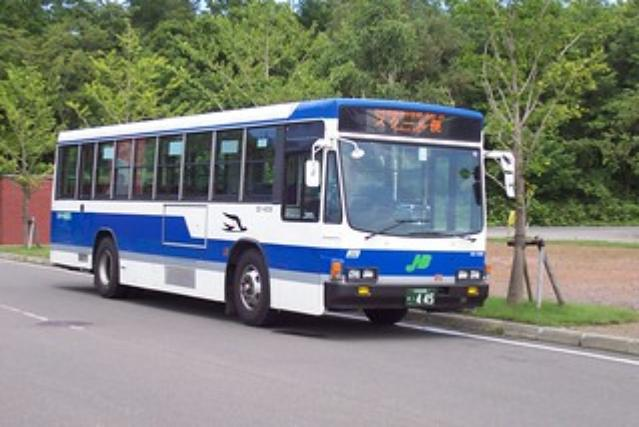bus: (48, 98, 490, 329)
